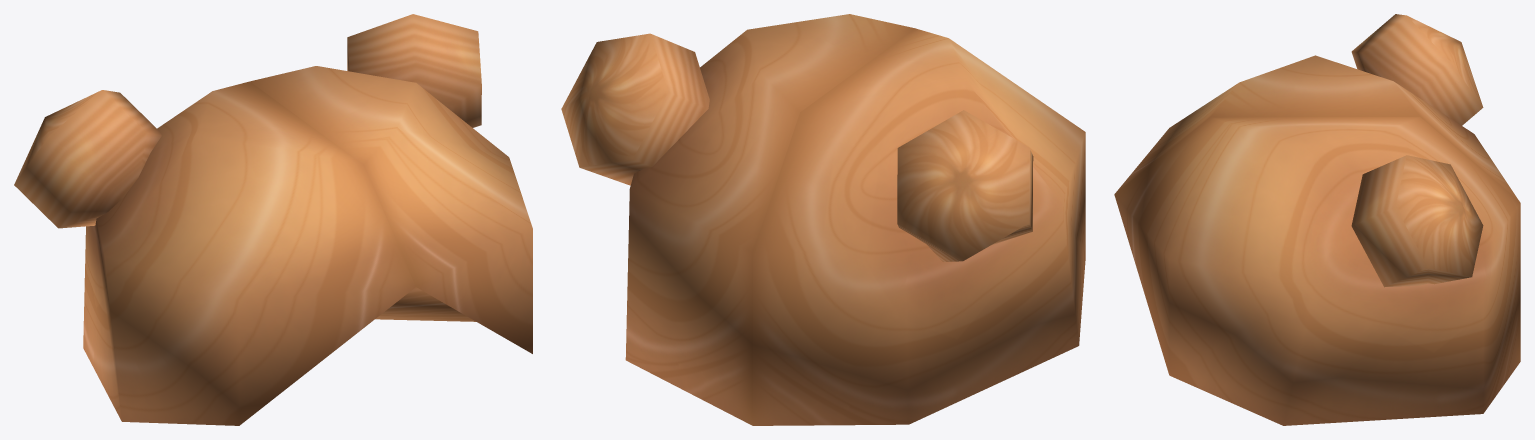
Rendered from Hair_TwinBun.FBX.
The picture shows the model from 3 angles, left to right: view 1: azimuth 30°, elevation 25°; view 2: azimuth 150°, elevation 25°; view 3: azimuth 270°, elevation 25°; orthographic projection. The views are drawn at different scales.
Parts seen in each view (by area): view 1: Hair_TwinBun; view 2: Hair_TwinBun; view 3: Hair_TwinBun.
Part boxes in pixels (x1=…): Hair_TwinBun: x1=14, y1=14, x2=532, y2=425; Hair_TwinBun: x1=561, y1=14, x2=1085, y2=425; Hair_TwinBun: x1=1114, y1=14, x2=1520, y2=425.
Bounding box in the file's own units: 319 × 200 × 263.
Materials: 1 (1 with a texture image).
